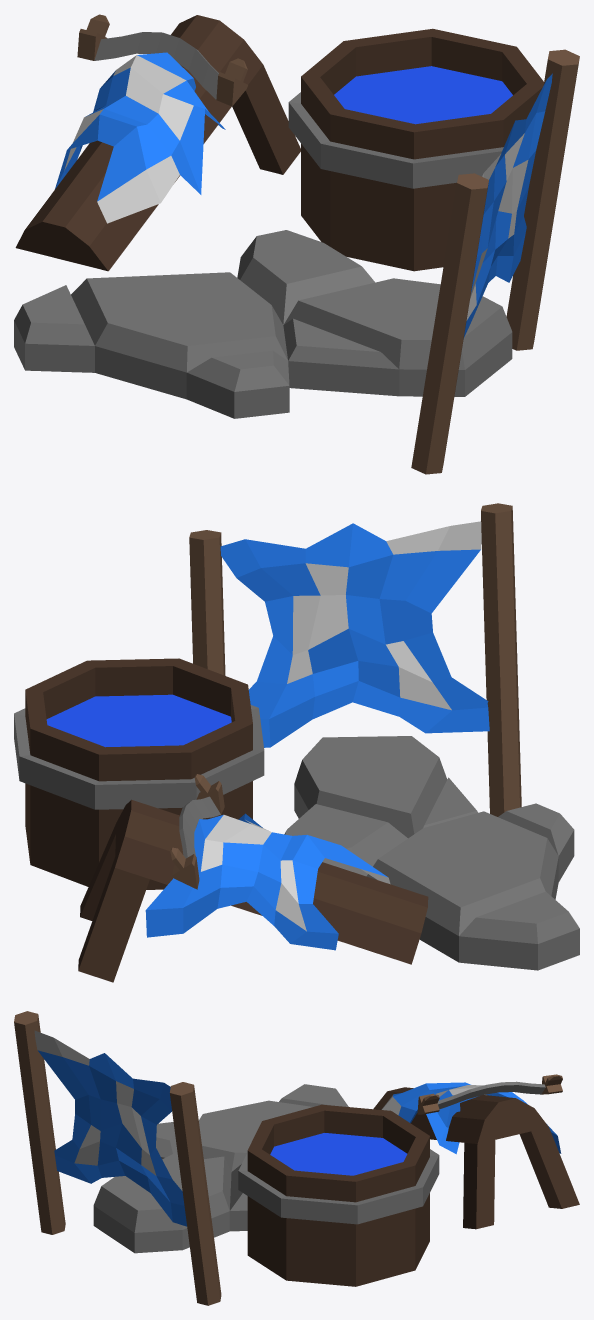
Rendered from Tanner LvL 1.fbx.
The picture shows the model from 3 angles, top to bottom: view 1: azimuth 30°, elevation 25°; view 2: azimuth 150°, elevation 25°; view 3: azimuth 270°, elevation 25°; orthographic projection. The views are drawn at different scales.
Visible parts, largest first — view 1: Rock_Type4_01_mesh.001, Team Color Obj.010; view 2: Rock_Type4_01_mesh.001, Team Color Obj.010; view 3: Rock_Type4_01_mesh.001, Team Color Obj.010.
Part boxes in pixels (x1,y1,x2,y2): Rock_Type4_01_mesh.001: (14,14,579,474); Team Color Obj.010: (55,52,552,338); Rock_Type4_01_mesh.001: (14,503,579,982); Team Color Obj.010: (145,521,489,950); Rock_Type4_01_mesh.001: (14,1011,579,1305); Team Color Obj.010: (34,1030,561,1226).
Size of the model in its own units: 145 by 76.23 by 174.
